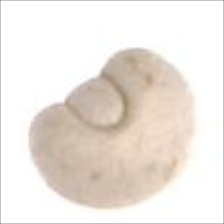L5: (55, 67, 136, 141), (149, 144, 190, 188)
L6: (26, 45, 197, 212)
